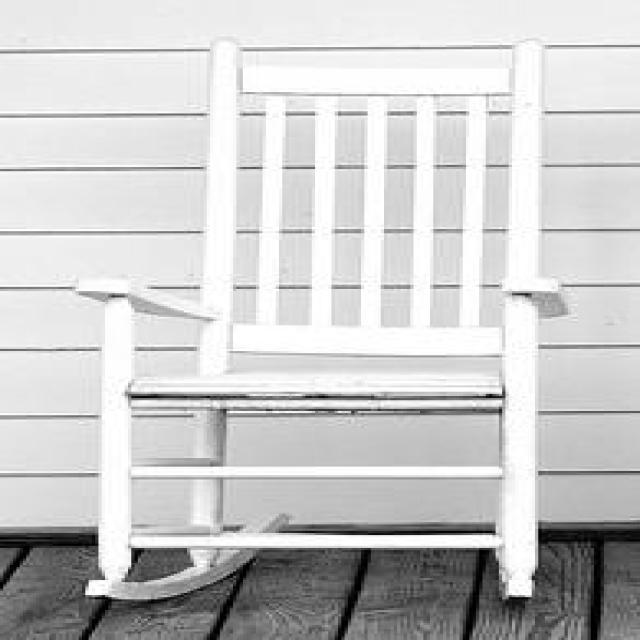chair: (61, 35, 568, 607)
